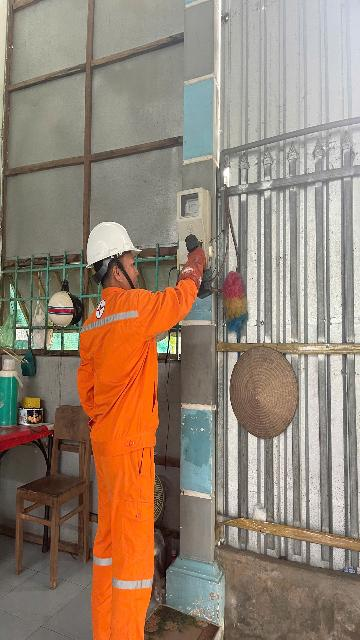gloves: (176, 243, 219, 295)
helmet: (69, 220, 156, 287)
